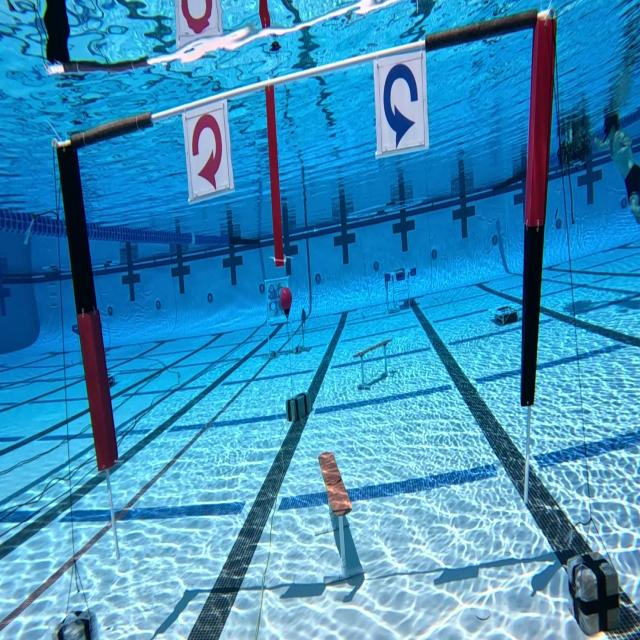blue_side: (373, 40, 432, 153)
red_side: (176, 88, 234, 202)
